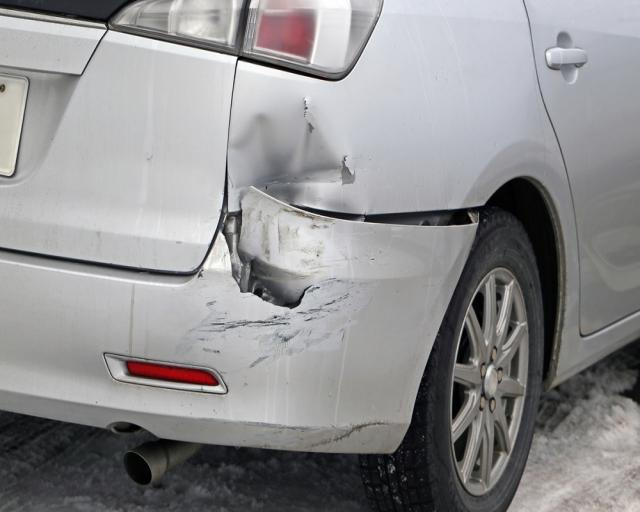crack: (221, 210, 314, 311)
dent: (227, 103, 348, 208)
scratch: (175, 241, 378, 383), (249, 205, 333, 279), (241, 419, 393, 447)
